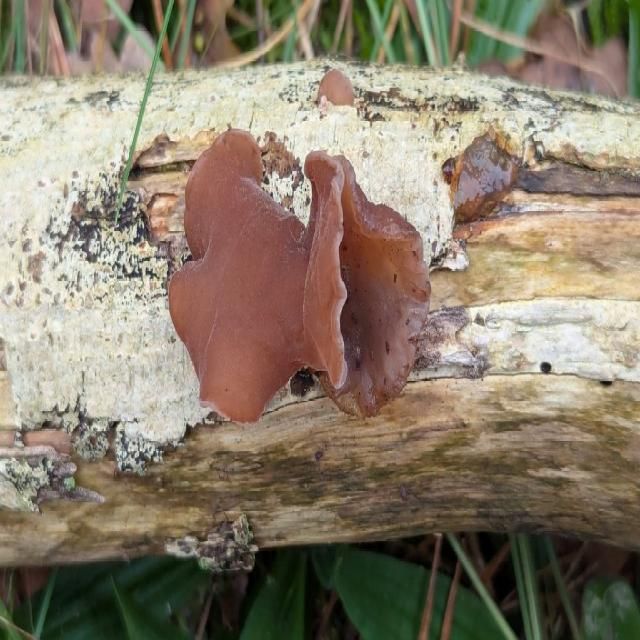Fase Muda: (318, 66, 356, 112)
Matang: (166, 126, 350, 430), (316, 150, 434, 426)
